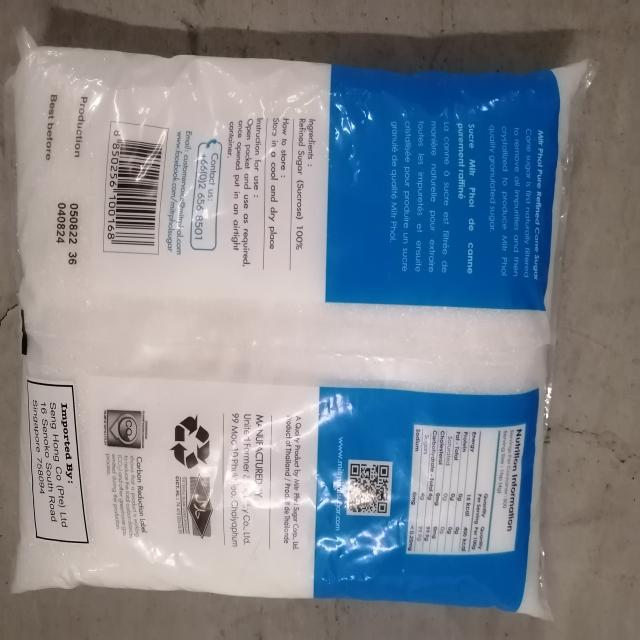object_name: (24, 45, 548, 611)
